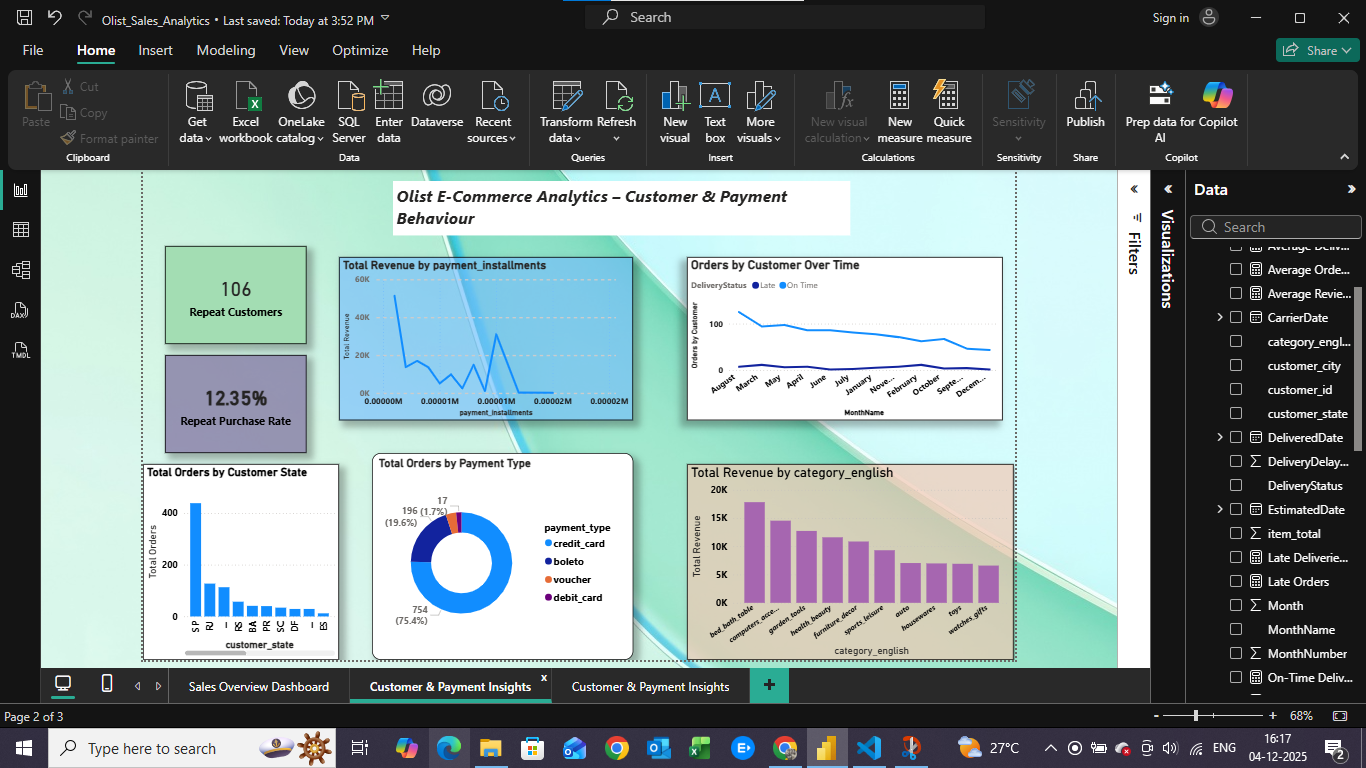

The dashboard page shown, as its layout file describes it:
{"tool":"powerbi","page":{"name":"Customer & Payment Insights","canvas":[1280,720],"ordinal":1},"visuals":[{"type":"columnChart","title":"Total Orders by Customer State","fields":{"Y":["vw_sales_summary.Total Orders"],"Category":["vw_sales_summary.customer_state"]},"box":[0,432,288,288],"z":0},{"type":"card","fields":{"Values":["vw_sales_summary.Repeat Customers"]},"box":[32,112,208,144],"z":1000},{"type":"card","fields":{"Values":["vw_sales_summary.Repeat Purchase Rate"]},"box":[32,272,208,144],"z":2000},{"type":"lineChart","title":"Orders by Customer Over Time","fields":{"Y":["vw_sales_summary.Orders by Customer"],"Category":["vw_sales_summary.MonthName"],"Series":["vw_sales_summary.DeliveryStatus"]},"box":[800,128,464,240],"z":3000},{"type":"lineClusteredColumnComboChart","fields":{"Category":["vw_sales_summary.category_english"],"Y":["vw_sales_summary.Total Revenue"]},"box":[800,432,480,288],"z":4000},{"type":"donutChart","title":"Total Orders by Payment Type","fields":{"Y":["vw_sales_summary.Total Orders"],"Category":["vw_sales_summary.payment_type"]},"box":[336,416,384,304],"z":5000},{"type":"lineChart","fields":{"Category":["vw_sales_summary.payment_installments"],"Y":["vw_sales_summary.Total Revenue"]},"box":[288,128,432,240],"z":6000},{"type":"textbox","box":[368,16,672,80],"z":7000}]}

Visuals, with their boxes on the page's 1280x720 design canvas (x1, y1, x2, y2). These are canvas units, not pixel positions in the 1366x768 screenshot, which may show the page scaled, cropped or inside an application window:
"Total Orders by Customer State" columnChart: [x1=0, y1=432, x2=288, y2=720]
card - vw_sales_summary.Repeat Customers: [x1=32, y1=112, x2=240, y2=256]
card - vw_sales_summary.Repeat Purchase Rate: [x1=32, y1=272, x2=240, y2=416]
"Orders by Customer Over Time" lineChart: [x1=800, y1=128, x2=1264, y2=368]
lineClusteredColumnComboChart - vw_sales_summary.category_english x vw_sales_summary.Total Revenue: [x1=800, y1=432, x2=1280, y2=720]
"Total Orders by Payment Type" donutChart: [x1=336, y1=416, x2=720, y2=720]
lineChart - vw_sales_summary.payment_installments x vw_sales_summary.Total Revenue: [x1=288, y1=128, x2=720, y2=368]
textbox: [x1=368, y1=16, x2=1040, y2=96]
